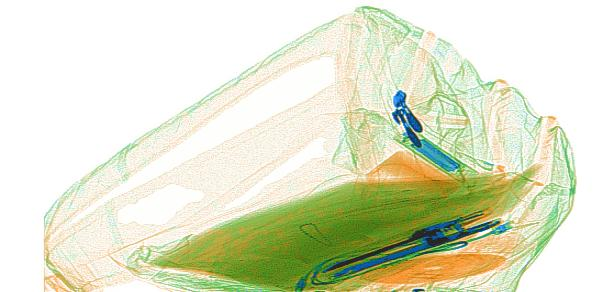battery: (407, 138, 462, 173)
